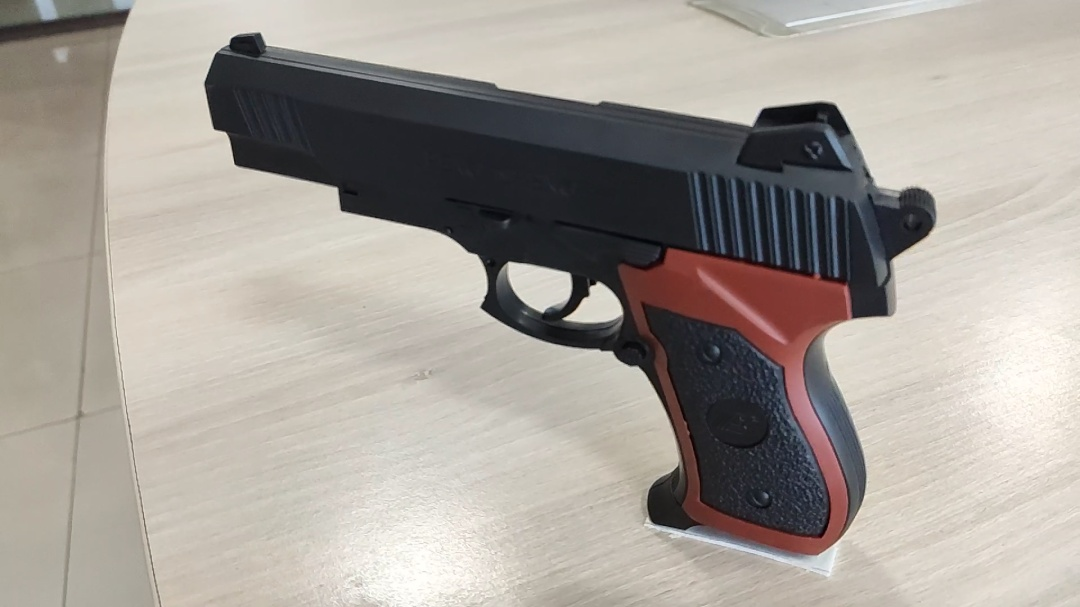gun: (200, 30, 939, 559)
